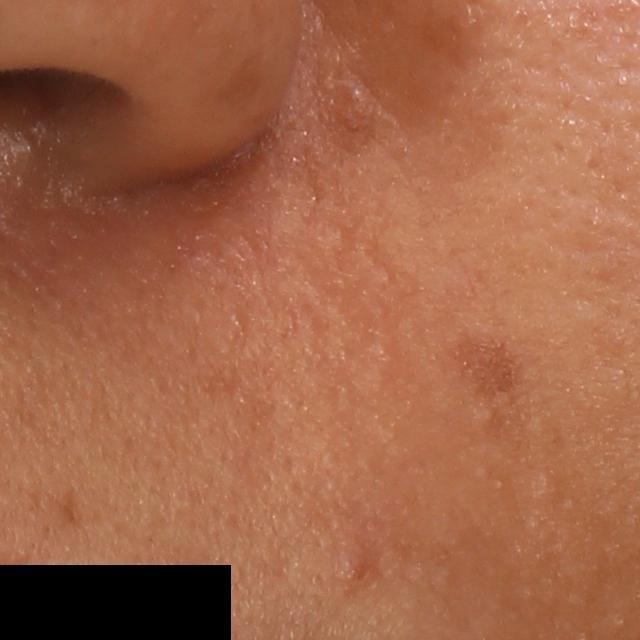comedo: (478, 405, 497, 427)
papule: (336, 549, 374, 584)
